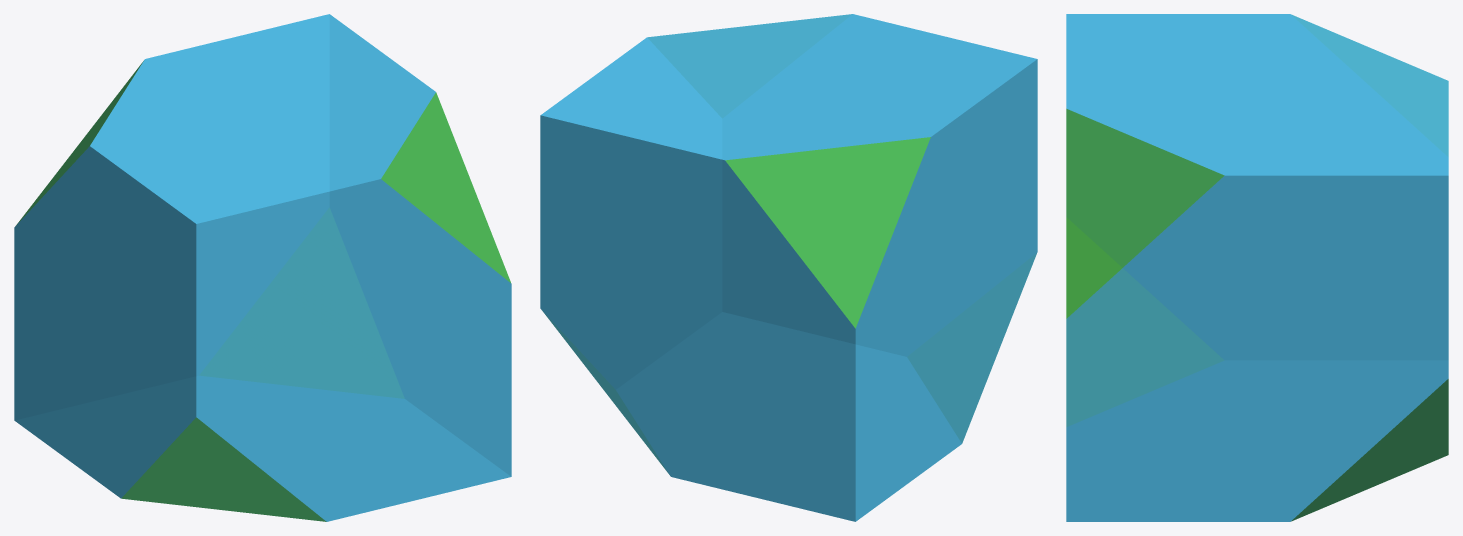
File: ChamferedTetrahedron.obj
3 views of the same model, side by side, from view 1: azimuth 30°, elevation 25°; view 2: azimuth 150°, elevation 25°; view 3: azimuth 270°, elevation 25° (orthographic). The views are drawn at different scales.
Size of the model in its own units: 1.71 by 1.71 by 1.71.
